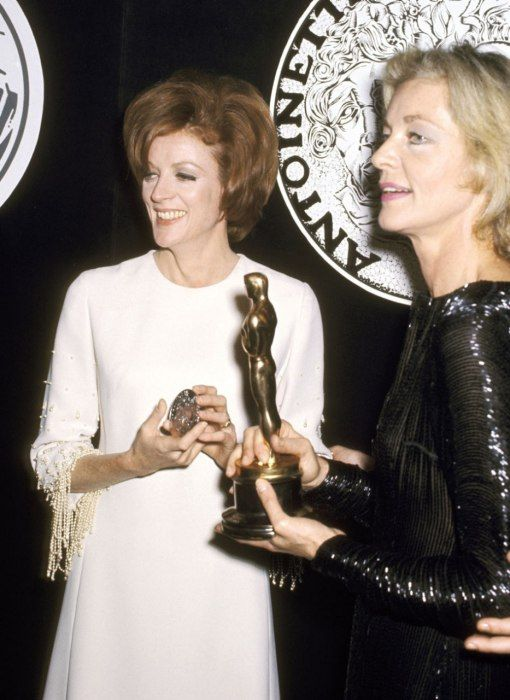hand: (131, 402, 201, 466)
